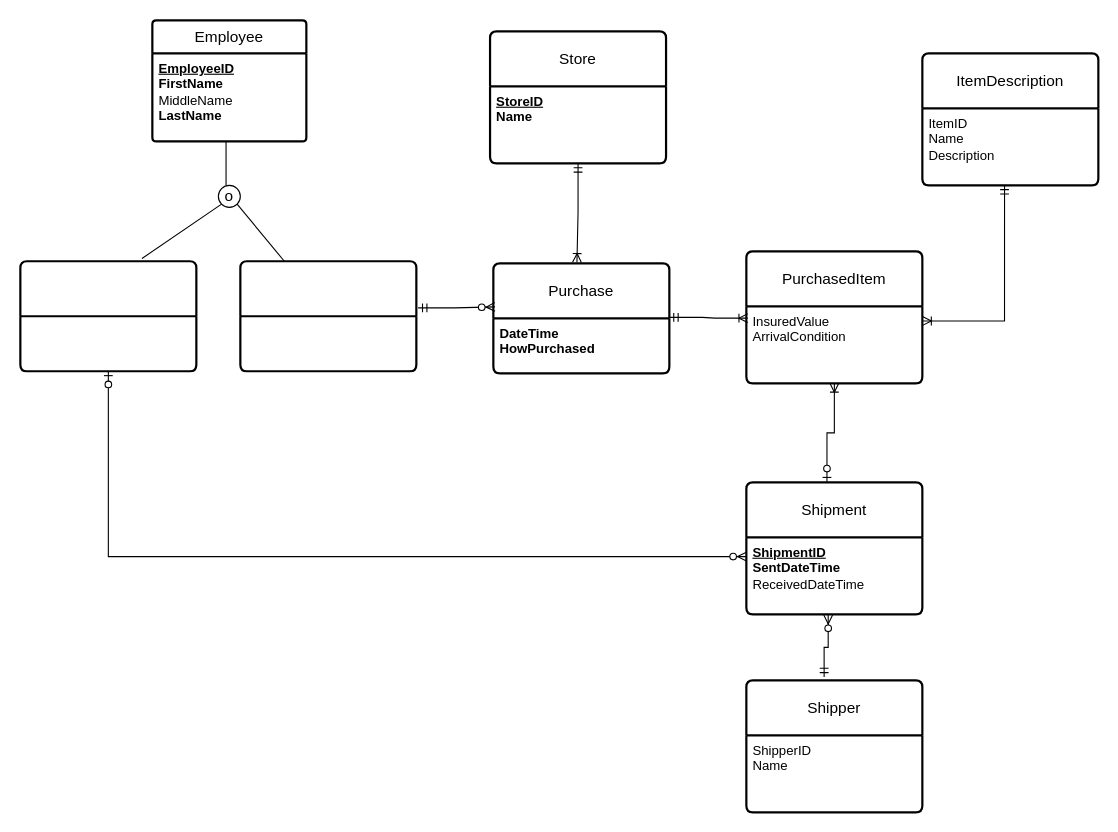
Some shapes in this 1118 by 832 pixel diagram are drawn without their labels. Each missing label, with the centre of its shape:
PurchasingAgent: point (328, 316)
ReceivingClerk: point (108, 316)
